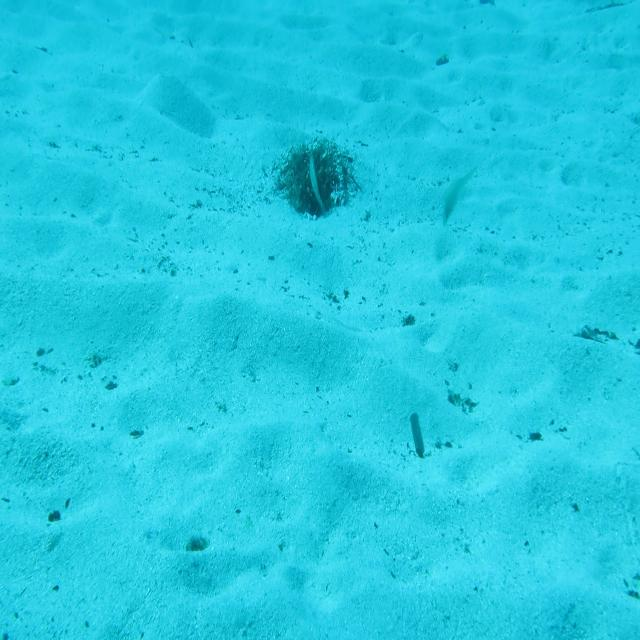FAN: (307, 150, 329, 212)
female: (439, 167, 475, 231)
nest: (271, 134, 359, 218)
vegetation: (406, 405, 425, 458), (573, 322, 622, 342), (184, 529, 212, 553), (437, 52, 453, 67)
